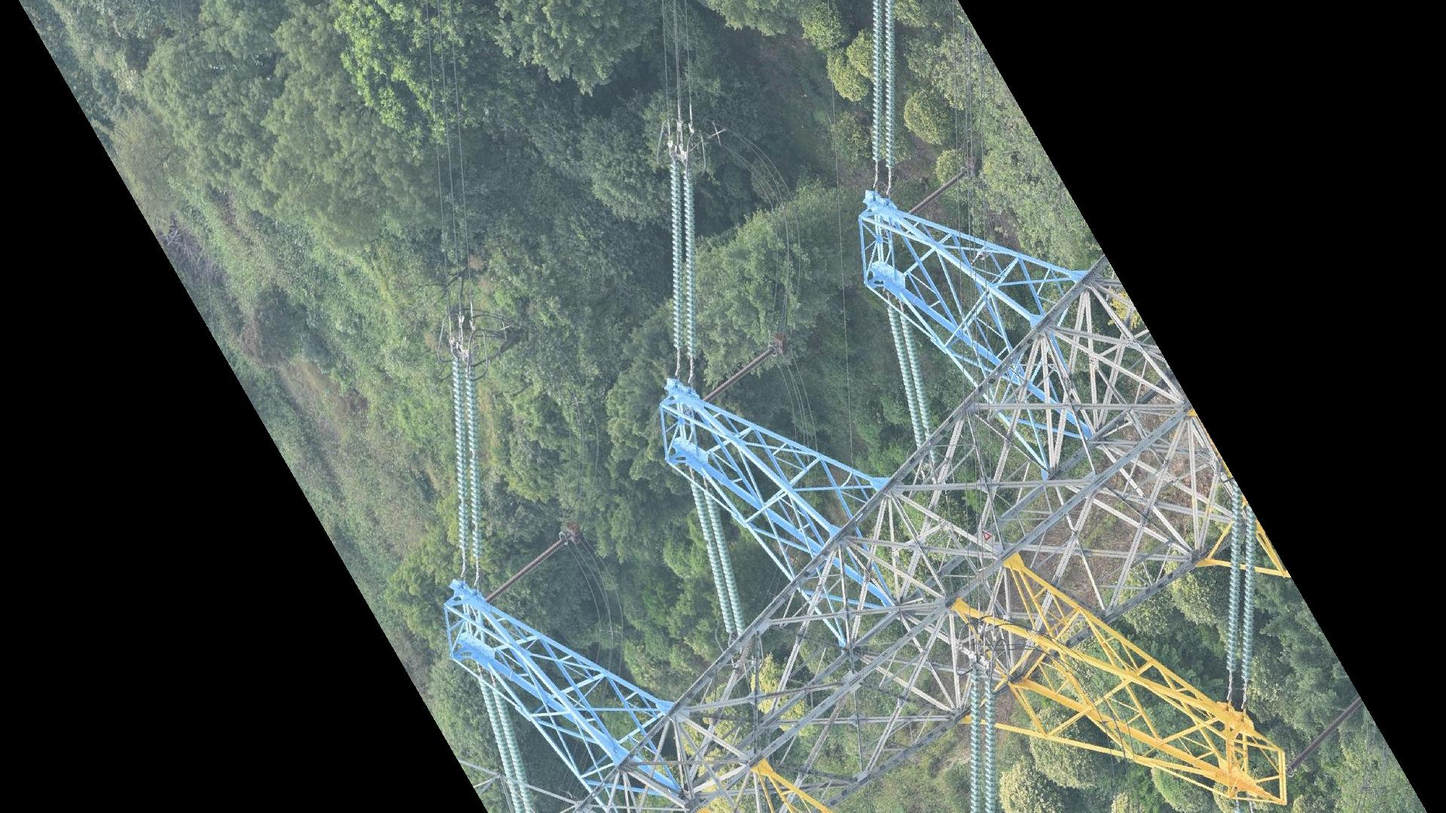insulator: (688, 479, 748, 636), (474, 674, 538, 813), (886, 305, 939, 464), (449, 356, 485, 561), (1225, 480, 1259, 683), (668, 159, 701, 361), (1284, 696, 1366, 772), (484, 536, 566, 603), (965, 669, 1003, 813), (869, 1, 898, 169), (700, 344, 775, 405), (907, 171, 966, 215)
insulator_stringdrop: (702, 534, 719, 551), (456, 494, 471, 512), (970, 678, 982, 698), (471, 519, 484, 537), (468, 446, 480, 465), (923, 422, 934, 438)
